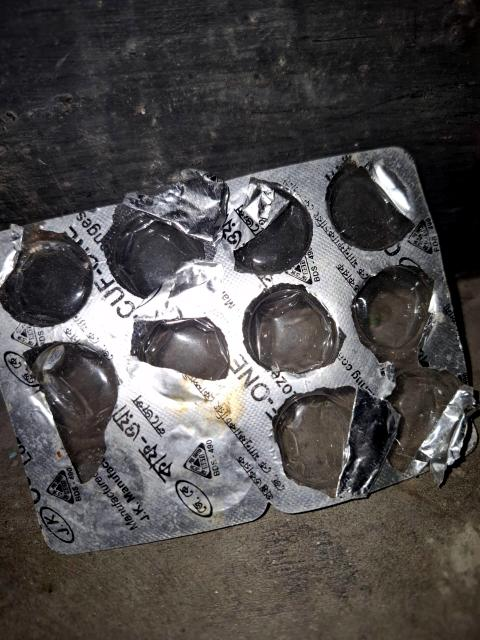medicine: (0, 140, 473, 557)
